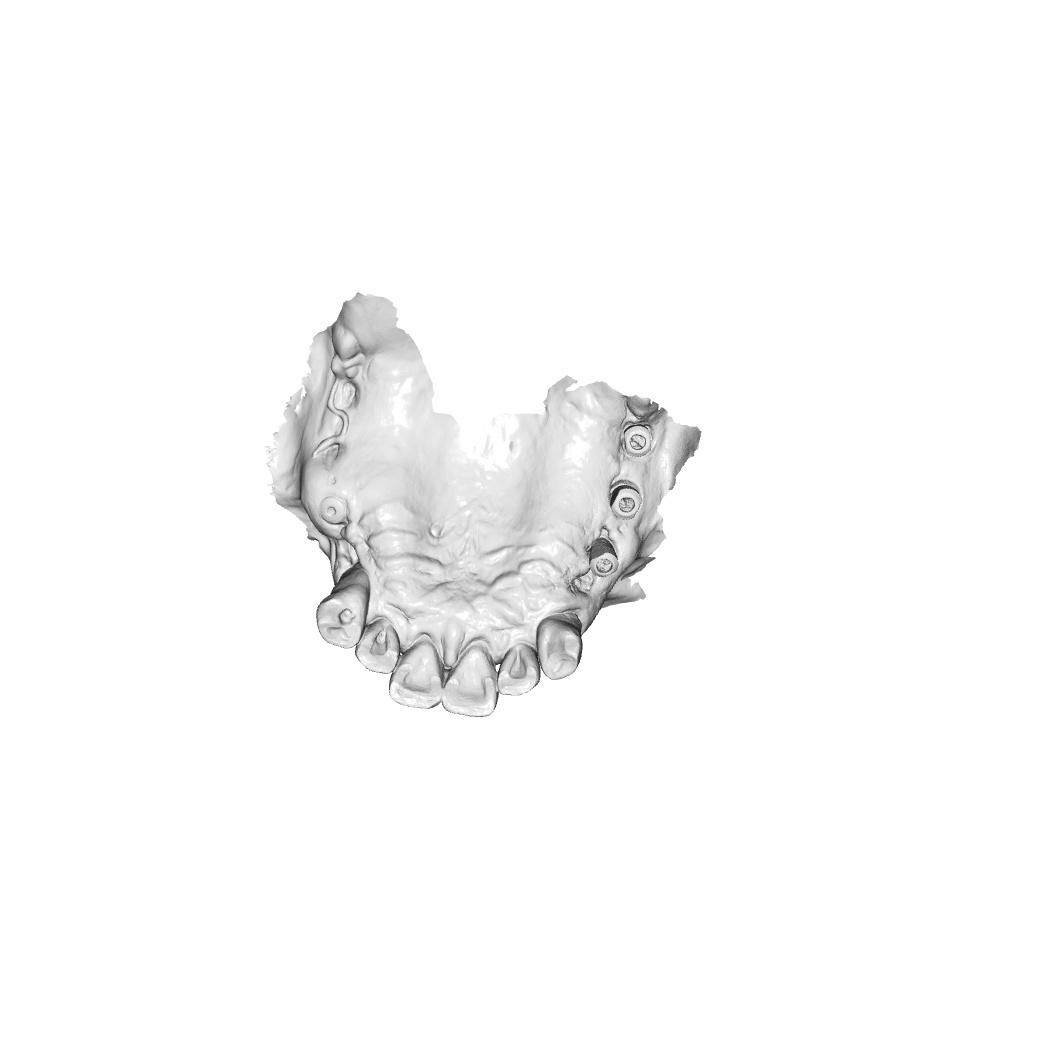canine: (315, 583, 370, 650), (535, 617, 583, 681)
implant: (608, 482, 645, 521), (588, 536, 621, 579), (622, 422, 653, 457)
incisor: (441, 644, 500, 719), (387, 641, 445, 711), (354, 618, 402, 676), (497, 641, 542, 698)
